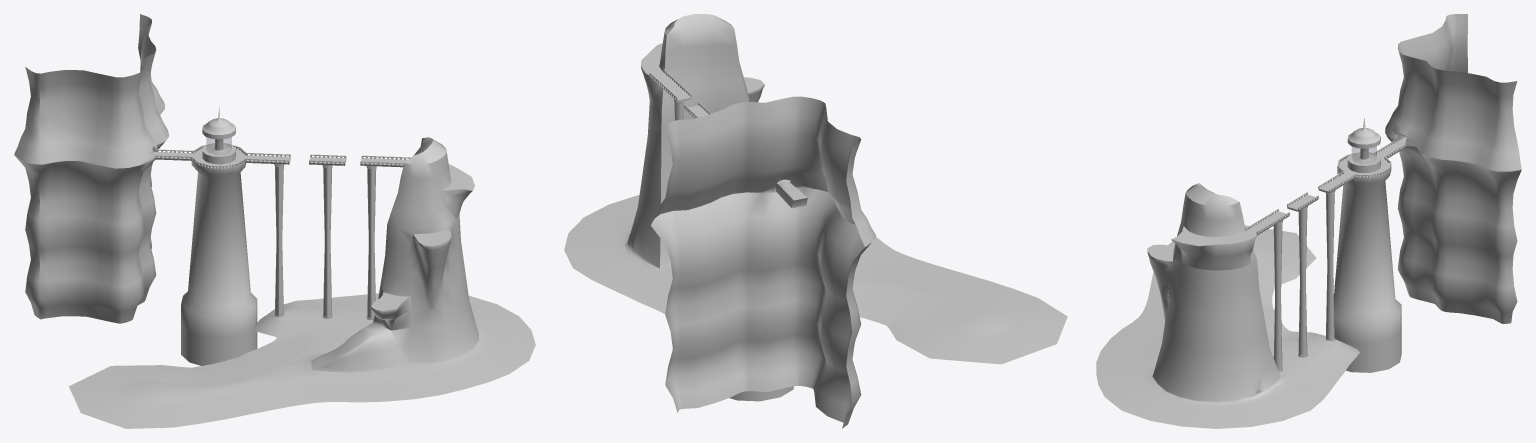
File: Chunk6.obj
3 views of the same model, side by side, from view 1: azimuth 30°, elevation 25°; view 2: azimuth 150°, elevation 25°; view 3: azimuth 270°, elevation 25° (orthographic). The views are drawn at different scales.
Size of the model in its own units: 1267 by 795 by 1113.
